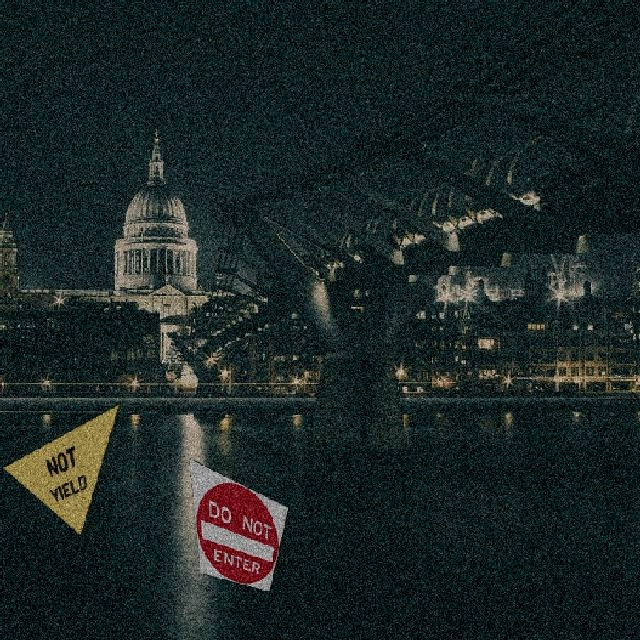DO_NOT_ENTER: (187, 456, 288, 591)
NOT_YIELD: (0, 400, 120, 535)
